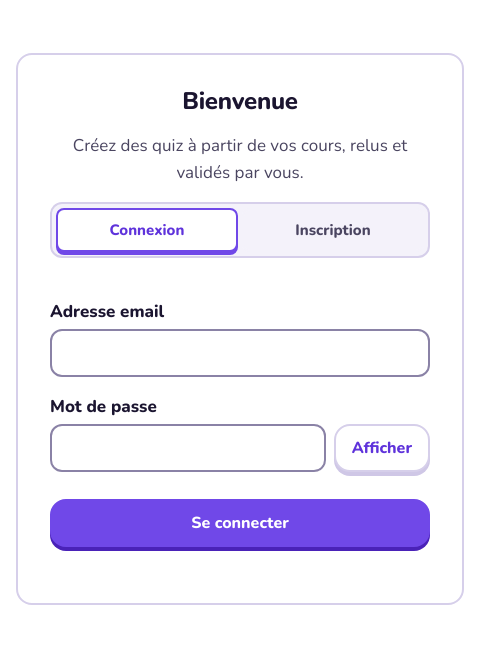
Test: PageConnexion › mot de passe incorrect : email et mot de passe marqués en erreur et reliés au message
Type "prof@exemple.fr" into the field labelled "Adresse email".
click(240, 353); type("prof@exemple.fr")  # box [50,329,430,377]
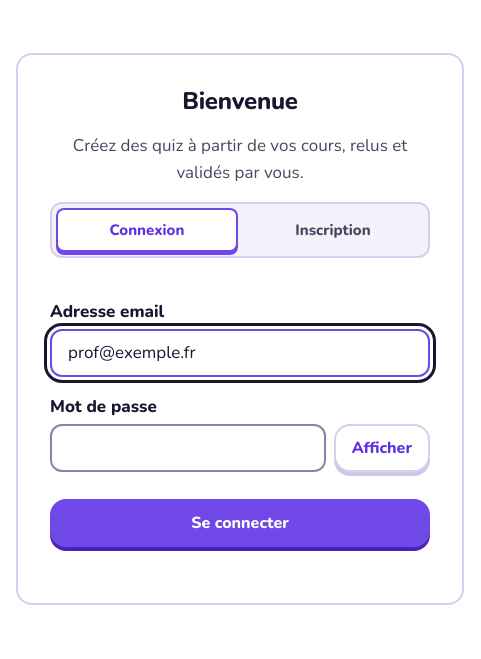
Type "mauvais" into the password field labelled "Mot de passe".
click(188, 448); type("mauvais")  # box [50,424,326,472]
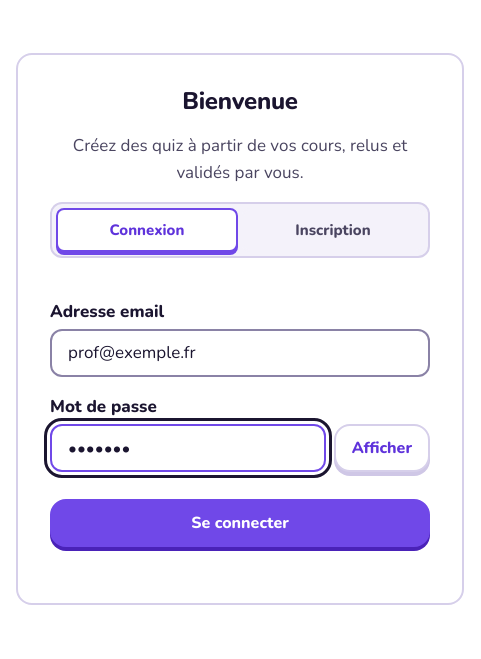
Click the button "Se connecter".
click(240, 523)  # box [50,499,430,547]
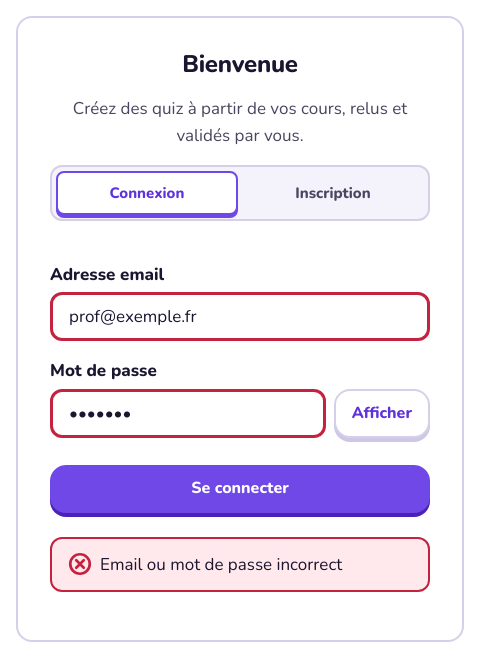
Expected: the message reads "Email ou mot de passe incorrect", [100,553,342,576]
